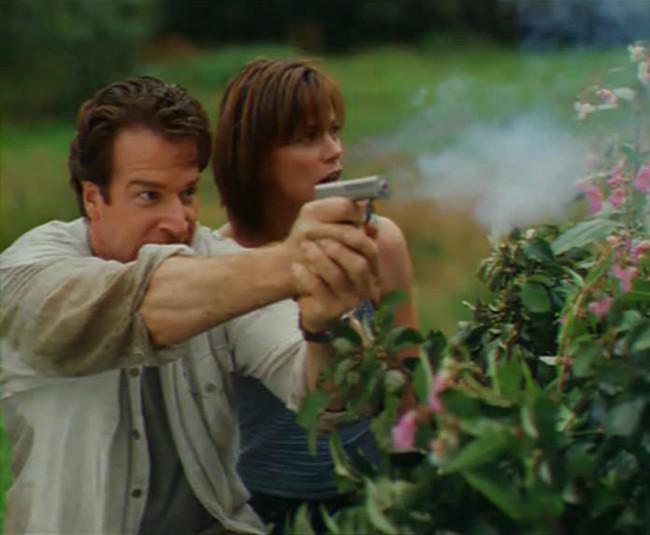gun: (289, 166, 410, 239)
